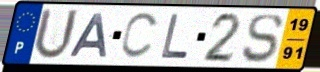2: (201, 11, 246, 64)
A: (67, 12, 110, 59)
C: (118, 11, 162, 61)
L: (159, 12, 191, 62)
S: (240, 13, 285, 65)
U: (31, 6, 81, 62)
